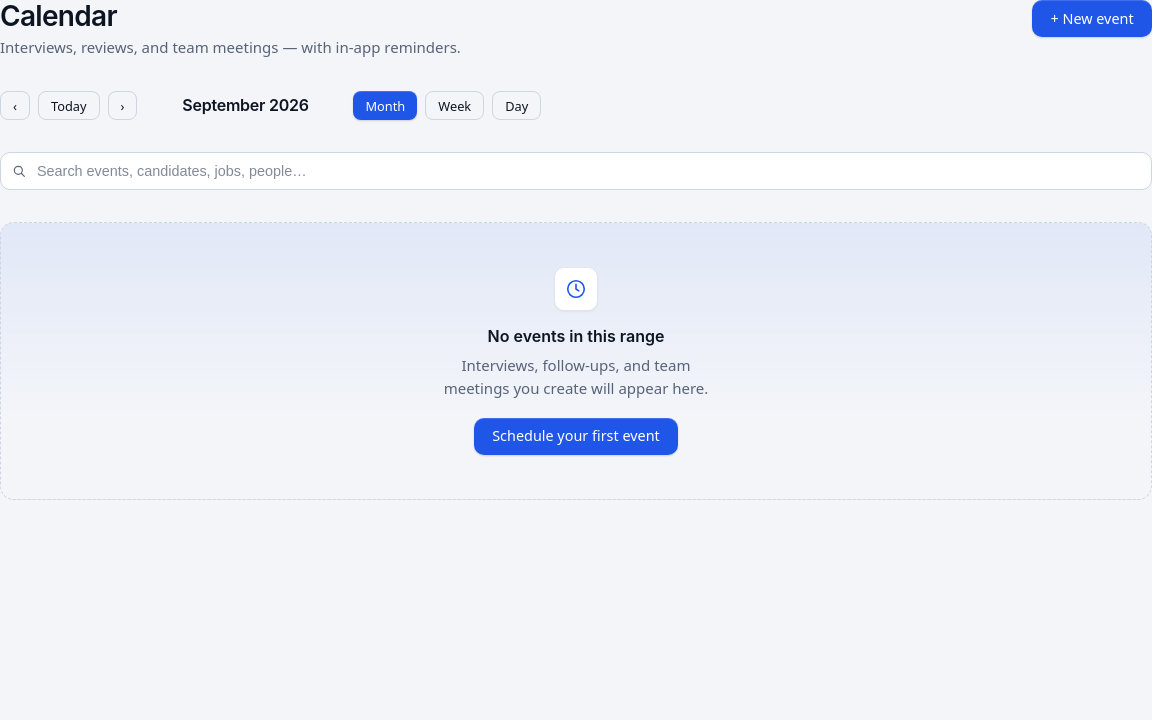
CalendarPage › turns a picked person into a chip and stops offering them again
Check: the text "No events in this range" is shown, box x1=488 y1=324 x2=664 y2=349
Click the button "+ New event": (1092, 19) x1=1032 y1=0 x2=1151 y2=37
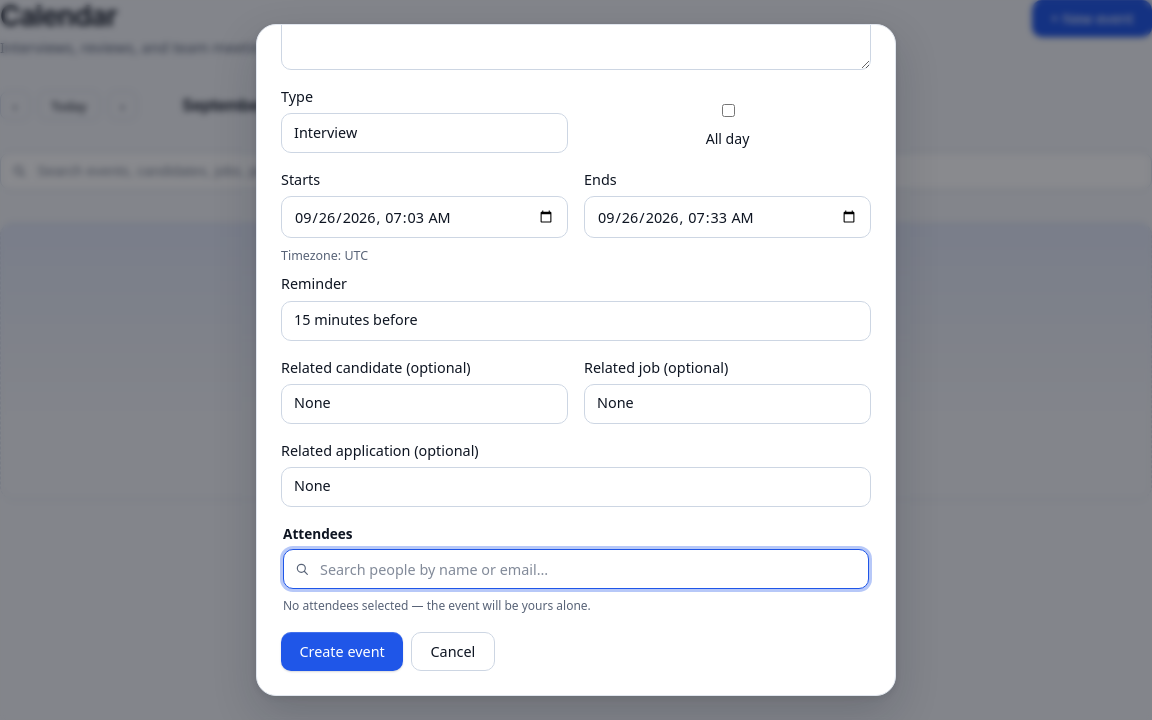
Click the dropdown named "Search attendees": (576, 569) x1=283 y1=549 x2=869 y2=589
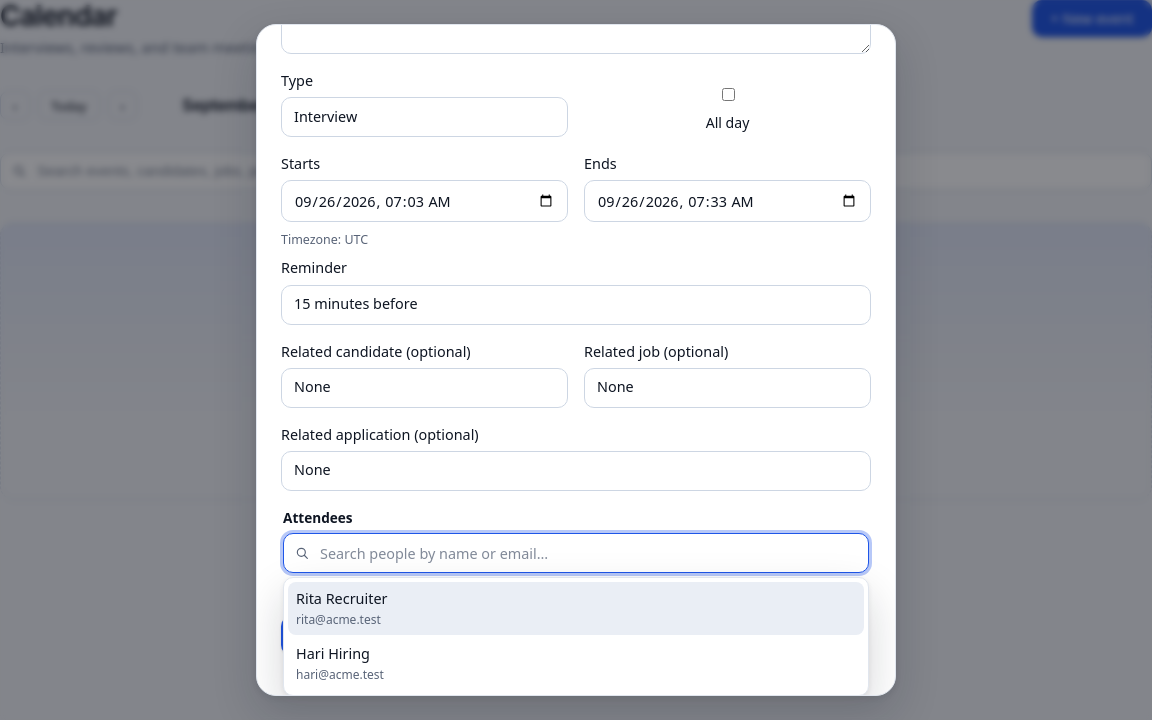
Check: the list is shown, box x1=283 y1=577 x2=869 y2=696
Click the option "Rita Recruiter rita@acme.test": (342, 599) x1=288 y1=582 x2=864 y2=635
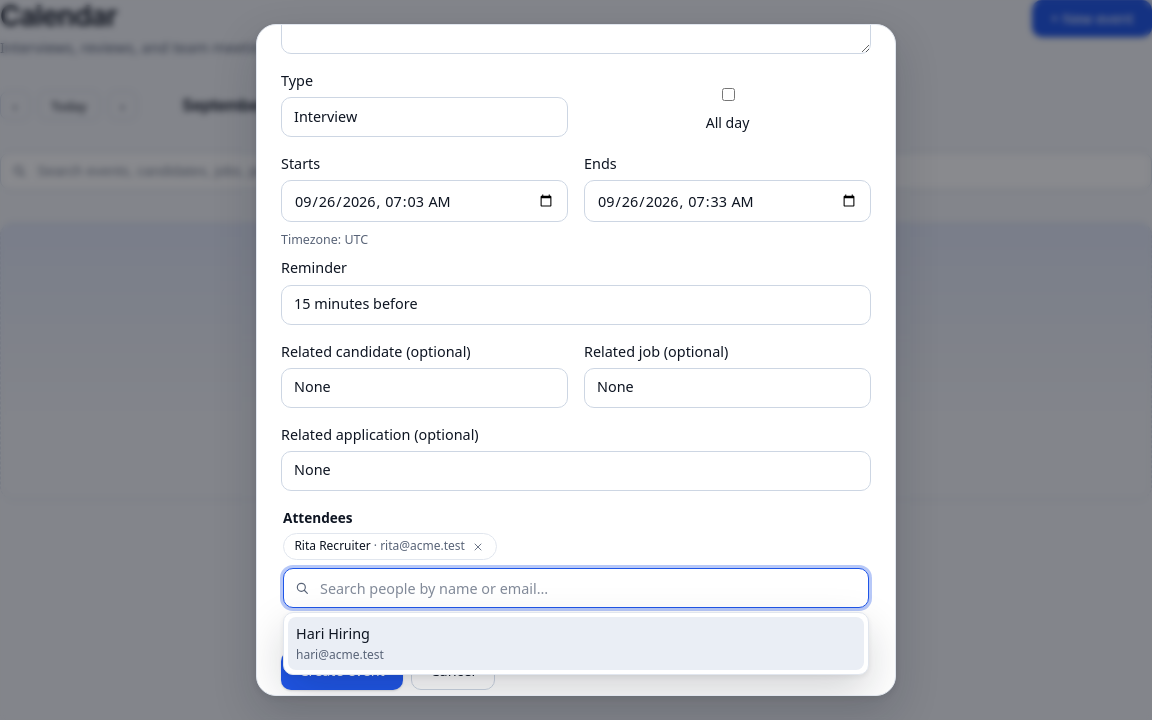
Check: the text "Rita Recruiter" is shown, box x1=294 y1=537 x2=371 y2=554
Check: the button named "Remove Rita Recruiter" is shown
Check: the text "1 attendee selected." is shown, box x1=283 y1=616 x2=396 y2=633
Click the button named "Remove Rita Recruiter": (478, 547) x1=470 y1=539 x2=486 y2=554
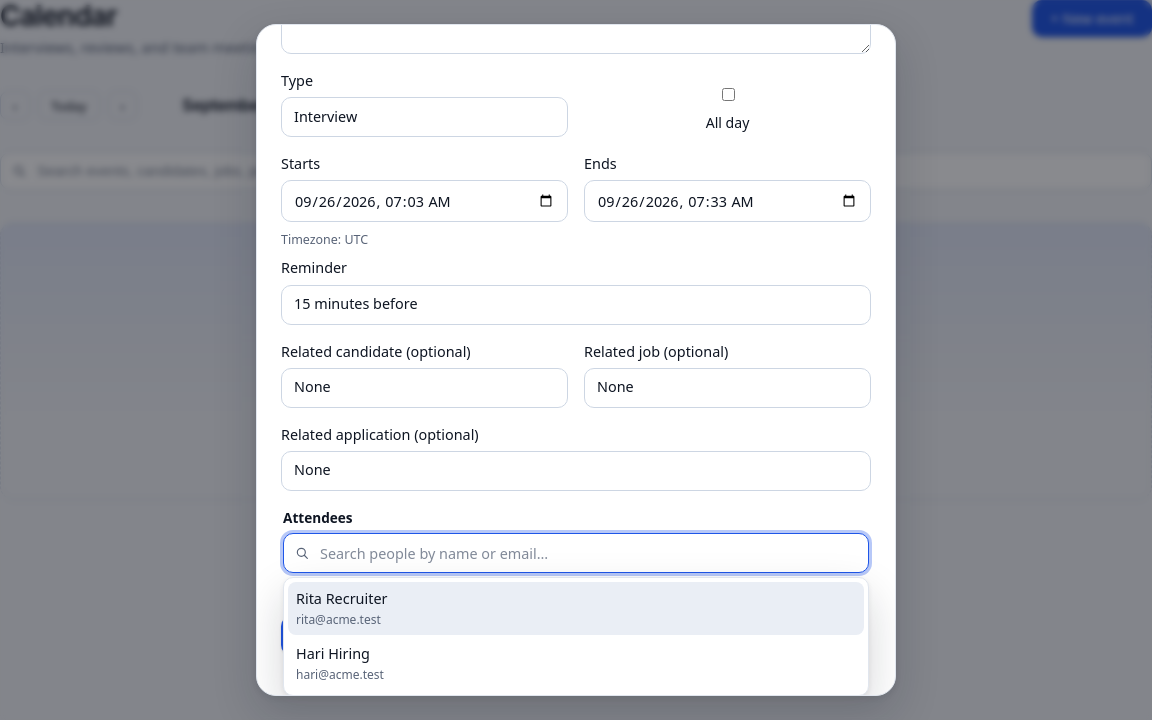
Check: the option "Rita Recruiter rita@acme.test" is shown, box x1=288 y1=582 x2=864 y2=635
Check: the text "No attendees selected — the event will be yours alone." is shown, box x1=283 y1=581 x2=591 y2=598
